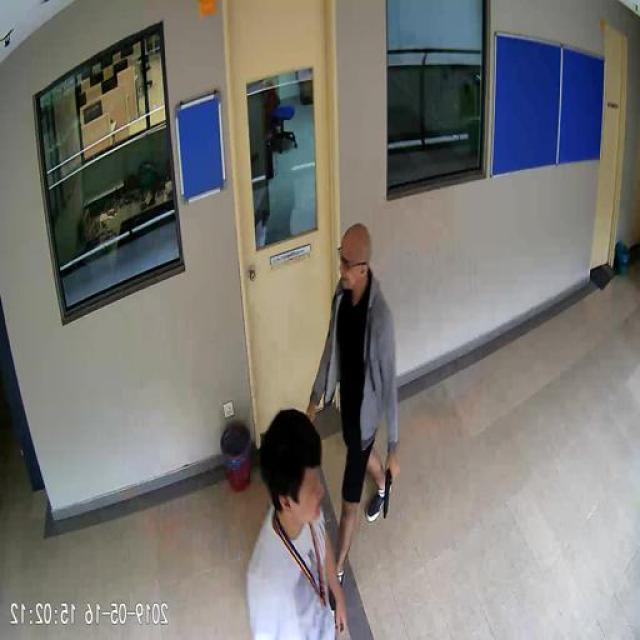Gun: (386, 462, 399, 516)
